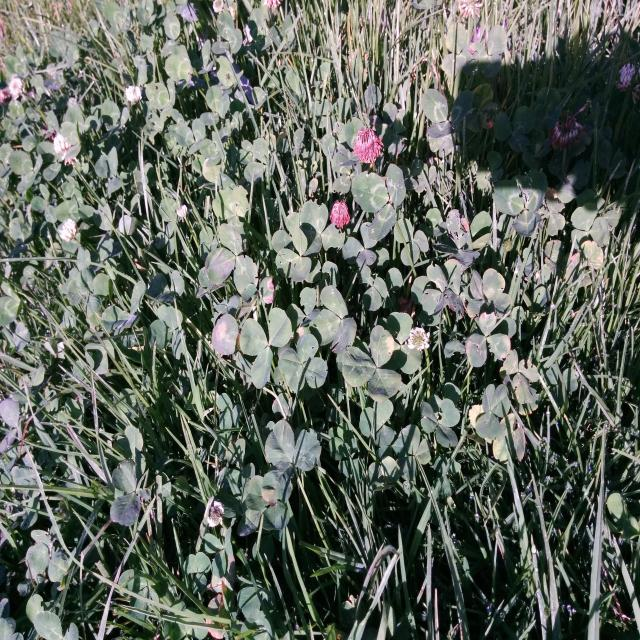Four Leaf Clover: (279, 335, 327, 392)
